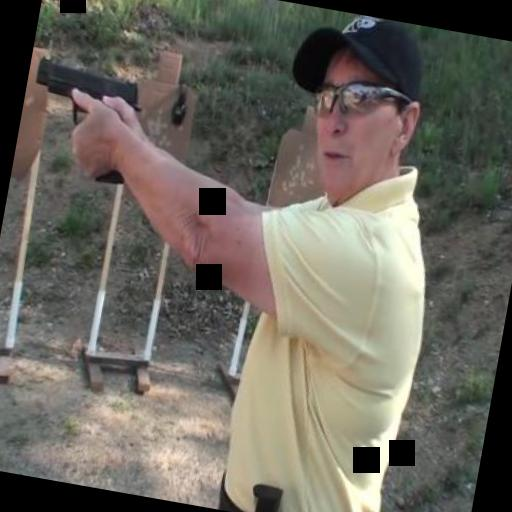Handgun: (15, 55, 146, 186)
